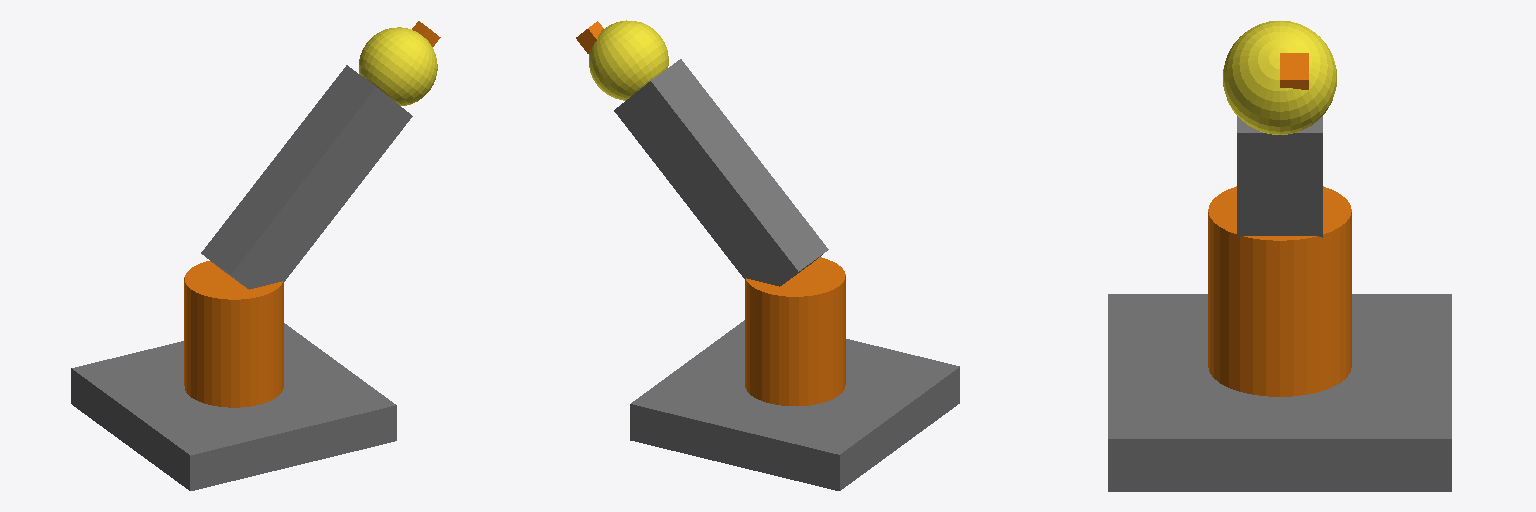
The robot description file, URDF, robot "partcad_urdf_example":
<?xml version="1.0"?>
<!--
  A small URDF used as a PartCAD assembly (see partcad.yaml).

  It is deliberately more than PartCAD's assembly *geometry* can hold: it has
  masses and inertia tensors, materials, a revolute joint with limits and
  dynamics, a continuous one, fixed ones, and a Gazebo block. The physics
  becomes named PartCAD properties and the joints become the assembly's joints -
  see docs/source/simulation.rst for the mapping - and what an assembly cannot
  hold is counted and reported, which is the other half of the point of the
  example.
-->
<robot name="partcad_urdf_example">

  <material name="grey">
    <color rgba="0.5 0.5 0.5 1.0"/>
  </material>
  <material name="orange">
    <color rgba="0.9 0.5 0.1 1.0"/>
  </material>

  <!-- The root link. It is a part of the assembly like every other link; the
       assembly itself is the container that holds them. -->
  <link name="base_link">
    <visual>
      <origin xyz="0 0 0.01" rpy="0 0 0"/>
      <geometry>
        <box size="0.12 0.12 0.02"/>
      </geometry>
      <material name="grey"/>
    </visual>
    <!-- The collision shape is what a simulator resolves contact against, and
         it is what PartCAD builds the link from unless 'ignoreCollision' says
         otherwise. Here it is deliberately a little larger than the visual one,
         which is kept as the part 'robot/base_link/visual'. -->
    <collision>
      <origin xyz="0 0 0.01" rpy="0 0 0"/>
      <geometry>
        <box size="0.13 0.13 0.02"/>
      </geometry>
    </collision>
    <inertial>
      <origin xyz="0 0 0.01" rpy="0 0 0"/>
      <mass value="0.78"/>
      <inertia ixx="9.75e-4" ixy="0" ixz="0" iyy="9.75e-4" iyz="0" izz="1.87e-3"/>
    </inertial>
  </link>

  <!-- A movable joint: the shoulder's joint to the base, which the assembly
       shows at its zero position. Its axis, limits and dynamics are the joint's
       ('pc info -a robot' lists it), and become the 'motion:' and 'physics:' of
       the interface it turns into under 'pc convert assembly -t assy'. -->
  <joint name="shoulder_pan" type="revolute">
    <origin xyz="0 0 0.02" rpy="0 0 0"/>
    <parent link="base_link"/>
    <child link="shoulder"/>
    <axis xyz="0 0 1"/>
    <limit lower="-3.14" upper="3.14" effort="12.0" velocity="2.0"/>
    <dynamics damping="0.1" friction="0.05"/>
  </joint>

  <link name="shoulder">
    <visual>
      <origin xyz="0 0 0.03" rpy="0 0 0"/>
      <geometry>
        <cylinder radius="0.025" length="0.06"/>
      </geometry>
      <material name="orange"/>
    </visual>
    <inertial>
      <origin xyz="0 0 0.03" rpy="0 0 0"/>
      <mass value="0.32"/>
      <inertia ixx="1.46e-4" ixy="0" ixz="0" iyy="1.46e-4" iyz="0" izz="1.00e-4"/>
    </inertial>
  </link>

  <!-- A fixed joint keeps nothing free: the forearm is welded to the shoulder,
       and turns with it. Both are one rigid body, so an export writes them as
       one link of two shapes. -->
  <joint name="elbow" type="fixed">
    <origin xyz="0 0 0.06" rpy="0 0.7853981634 0"/>
    <parent link="shoulder"/>
    <child link="forearm"/>
  </joint>

  <link name="forearm">
    <visual>
      <origin xyz="0 0 0.06" rpy="0 0 0"/>
      <geometry>
        <box size="0.03 0.03 0.12"/>
      </geometry>
      <material name="grey"/>
    </visual>
  </link>

  <!-- A joint with no limits, which turns all the way round: the wrist spins
       about the forearm's own length. -->
  <joint name="wrist" type="continuous">
    <origin xyz="0 0 0.12" rpy="0 0 0"/>
    <parent link="forearm"/>
    <child link="wrist"/>
    <axis xyz="0 0 1"/>
    <dynamics damping="0.02"/>
  </joint>

  <!-- A link whose two shapes are told apart. Its visual geometry is two
       elements, which become the sub-assembly 'robot/wrist' of the parts
       'robot/wrist/1' and 'robot/wrist/2'; its collision geometry is one simple
       mesh, which becomes the single part 'robot/wrist'. Which of the two the
       link is built from is what 'ignoreCollision' decides. -->
  <link name="wrist">
    <visual>
      <origin xyz="0 0 0.015" rpy="0 0 0"/>
      <geometry>
        <sphere radius="0.02"/>
      </geometry>
    </visual>
    <visual>
      <!-- A mesh from another package in this repository. 'package://' is
           resolved against the packages around the URDF file, and 'scale' is
           what says the mesh file itself is in millimetres. -->
      <origin xyz="0 0 0.03" rpy="0 0 0"/>
      <geometry>
        <mesh filename="package://produce_part_stl/cube.stl" scale="0.001 0.001 0.001"/>
      </geometry>
      <material name="orange"/>
    </visual>
    <collision>
      <geometry>
        <mesh filename="package://produce_part_stl/cube.stl" scale="0.001 0.001 0.001"/>
      </geometry>
    </collision>
  </link>

  <gazebo reference="base_link">
    <mu1>0.9</mu1>
    <mu2>0.9</mu2>
    <material>Gazebo/Grey</material>
  </gazebo>

</robot>

--- Facts derived from the render (not from the file) ---
Views: 3 orthographic renders of the robot side by side, from view 1: azimuth 30°, elevation 25°; view 2: azimuth 150°, elevation 25°; view 3: azimuth 270°, elevation 25°.
Model partcad_urdf_example with 4 links and 3 joints (1 revolute, 1 continuous, 1 fixed), rooted at base_link, posed all joints at 0.
Links seen in each view (by area): view 1: base_link, forearm, shoulder, wrist; view 2: base_link, forearm, shoulder, wrist; view 3: base_link, shoulder, wrist, forearm.
Link boxes in pixels (box(x1,y1,x2,y2)): base_link: box(71, 323, 396, 490); forearm: box(201, 65, 412, 289); shoulder: box(184, 261, 283, 407); wrist: box(359, 21, 440, 105); base_link: box(630, 320, 959, 490); forearm: box(614, 59, 828, 286); shoulder: box(745, 257, 845, 405); wrist: box(576, 20, 668, 100); base_link: box(1108, 294, 1451, 491); shoulder: box(1208, 186, 1351, 396); wrist: box(1223, 21, 1336, 134); forearm: box(1237, 116, 1322, 237).
Size in the robot's own frame: 0.1802 by 0.12 by 0.1955 metres.
Meshes: 1 distinct files referenced, 1 mesh visuals loaded (1 binary STL).
